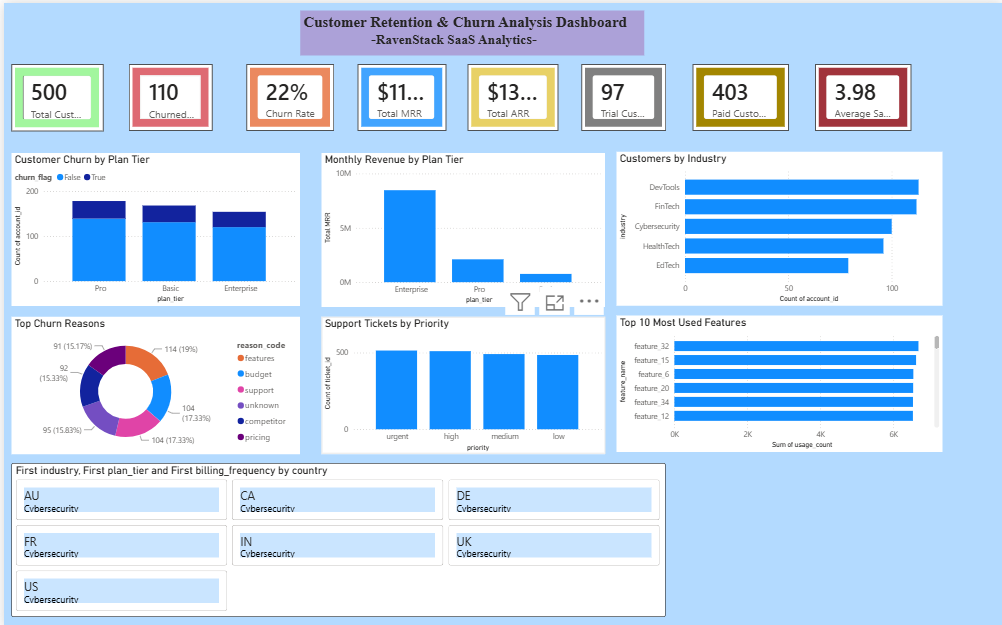

This screenshot's page, from the dashboard's own definition file:
{"tool":"powerbi","page":{"name":"Page 1","canvas":[1600,1000],"ordinal":0},"visuals":[{"type":"textbox","box":[473.3,11.7,550,71.7],"z":0},{"type":"cardVisual","fields":{"Data":["Measure.Churned Customers"]},"box":[200,98.3,133.3,106.7],"z":1000},{"type":"cardVisual","fields":{"Data":["Measure.Churn Rate"]},"box":[388.3,98.3,140,106.7],"z":2000},{"type":"cardVisual","fields":{"Data":["Measure.Total MRR"]},"box":[566.7,98.3,141.7,106.7],"z":3000},{"type":"cardVisual","fields":{"Data":["Measure.Total ARR"]},"box":[741.7,98.3,145,106.7],"z":4000},{"type":"cardVisual","fields":{"Data":["Measure.Average Satisfaction"]},"box":[1298.3,98.3,153.3,106.7],"z":5000},{"type":"cardVisual","fields":{"Data":["Measure.Trial Customers"]},"box":[923.3,98.3,135,106.7],"z":6000},{"type":"cardVisual","fields":{"Data":["Measure.Paid Customers"]},"box":[1101.7,98.3,153.3,106.7],"z":7000},{"type":"cardVisual","fields":{"Data":["Measure.Total Customers"]},"box":[12.3,98.8,146.8,107],"z":8000},{"type":"columnChart","title":"Customer Churn by Plan Tier","fields":{"Category":["accounts_cleaned.plan_tier"],"Y":["CountNonNull(accounts_cleaned.account_id)"],"Series":["accounts_cleaned.churn_flag"]},"box":[11.7,240,461.7,245],"z":9000},{"type":"clusteredColumnChart","title":"Monthly Revenue by Plan Tier","fields":{"Category":["subscriptions_cleaned.plan_tier"],"Y":["Measure.Total MRR"]},"box":[508.3,240,453.3,246.7],"z":10000},{"type":"clusteredBarChart","title":"Customers by Industry","fields":{"Category":["accounts_cleaned.industry"],"Y":["CountNonNull(accounts_cleaned.account_id)"]},"box":[980,238.3,521.7,246.7],"z":11000},{"type":"donutChart","title":"Top Churn Reasons","fields":{"Category":["churn_events_cleaned.reason_code"],"Y":["CountNonNull(churn_events_cleaned.churn_event_id)"]},"box":[11.7,501.7,461.7,220],"z":12000},{"type":"clusteredColumnChart","title":"Support Tickets by Priority","fields":{"Category":["support_tickets_cleaned.priority"],"Y":["CountNonNull(support_tickets_cleaned.ticket_id)"]},"box":[508.3,501.7,453.3,220],"z":13000},{"type":"clusteredBarChart","title":"Top 10 Most Used Features","fields":{"Category":["feature_usage_cleaned.feature_name"],"Y":["Sum(feature_usage_cleaned.usage_count)"]},"box":[980,500,521.7,218.3],"z":14000},{"type":"advancedSlicerVisual","fields":{"Values":["accounts_cleaned.country"],"Label":["Min(accounts_cleaned.industry)"]},"box":[11.7,736.7,1046.7,246.7],"z":14001}]}

Visuals, with their boxes in screenshot pixels (x1, y1, x2, y2), scaled from the page's 1600x1000 canvas onto the 1002x625 screenshot:
textbox: box=[296, 7, 641, 52]
cardVisual - Measure.Churned Customers: box=[125, 61, 209, 128]
cardVisual - Measure.Churn Rate: box=[243, 61, 331, 128]
cardVisual - Measure.Total MRR: box=[355, 61, 444, 128]
cardVisual - Measure.Total ARR: box=[464, 61, 555, 128]
cardVisual - Measure.Average Satisfaction: box=[813, 61, 909, 128]
cardVisual - Measure.Trial Customers: box=[578, 61, 663, 128]
cardVisual - Measure.Paid Customers: box=[690, 61, 786, 128]
cardVisual - Measure.Total Customers: box=[8, 62, 100, 129]
"Customer Churn by Plan Tier" columnChart: box=[7, 150, 296, 303]
"Monthly Revenue by Plan Tier" clusteredColumnChart: box=[318, 150, 602, 304]
"Customers by Industry" clusteredBarChart: box=[614, 149, 940, 303]
"Top Churn Reasons" donutChart: box=[7, 314, 296, 451]
"Support Tickets by Priority" clusteredColumnChart: box=[318, 314, 602, 451]
"Top 10 Most Used Features" clusteredBarChart: box=[614, 312, 940, 449]
advancedSlicerVisual - accounts_cleaned.country x Min(accounts_cleaned.industry): box=[7, 460, 663, 615]
